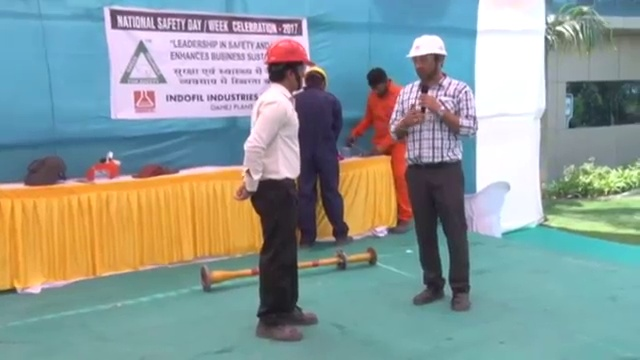helmet: (263, 38, 317, 67), (403, 33, 449, 58), (304, 63, 328, 81)
helmet_off: (364, 65, 394, 99)
helmet_on: (262, 37, 317, 94), (402, 32, 451, 88), (303, 62, 328, 94)
person: (235, 36, 322, 343), (389, 33, 479, 313), (294, 62, 357, 249), (350, 64, 414, 236)
